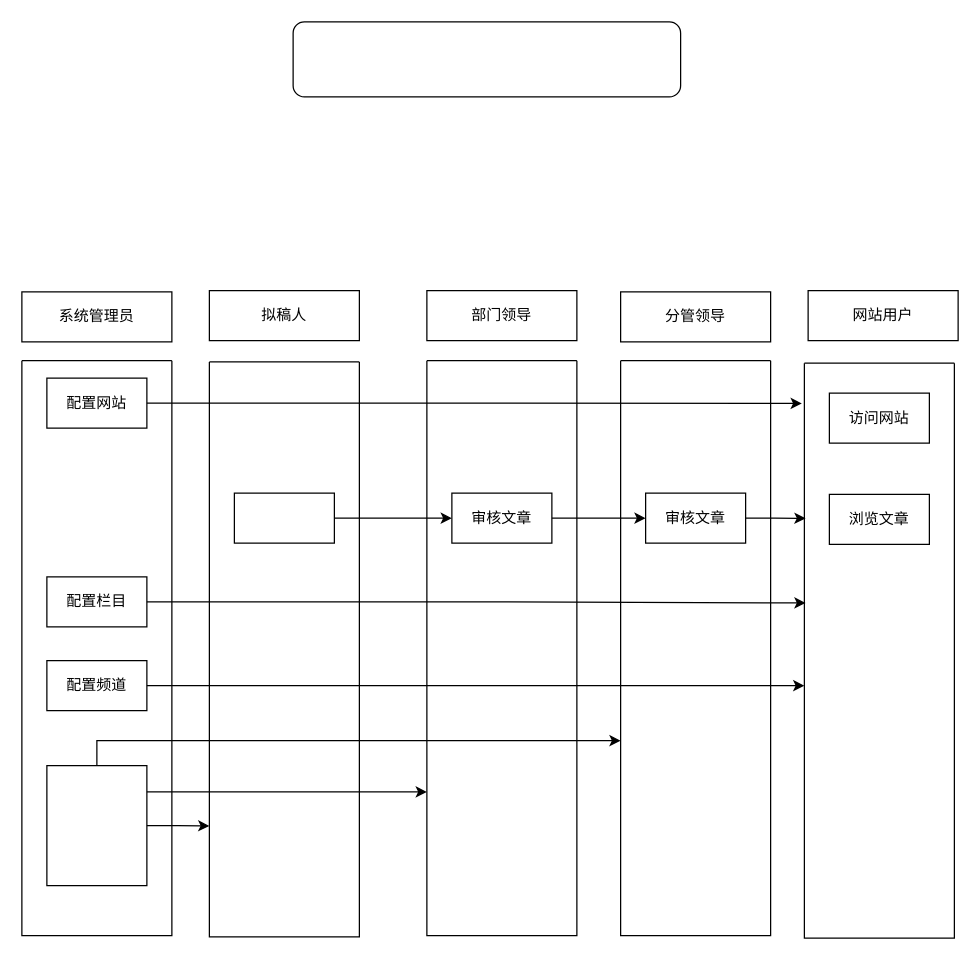
Some shapes in this 980 by 960 pixel diagram are drawn without their labels. The shapes that lost their labels are listed below. From the top down, each one's centre as x and y in pixels, then its label:
At (x=486, y=59): "业务流程图".
At (x=283, y=517): "编辑文章".
At (x=96, y=825): "管理用户".
